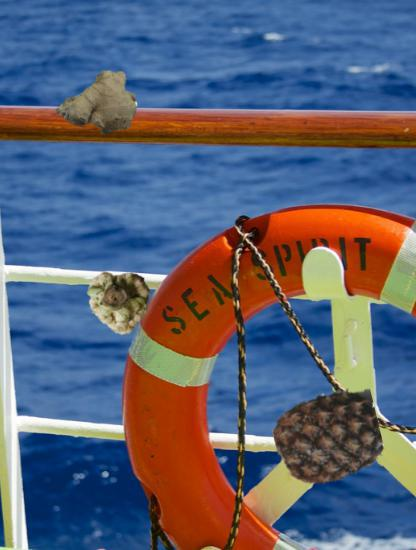Cauliflower: (85, 264, 152, 331)
Ginger: (55, 62, 138, 145)
Pineapple: (275, 384, 381, 490)
